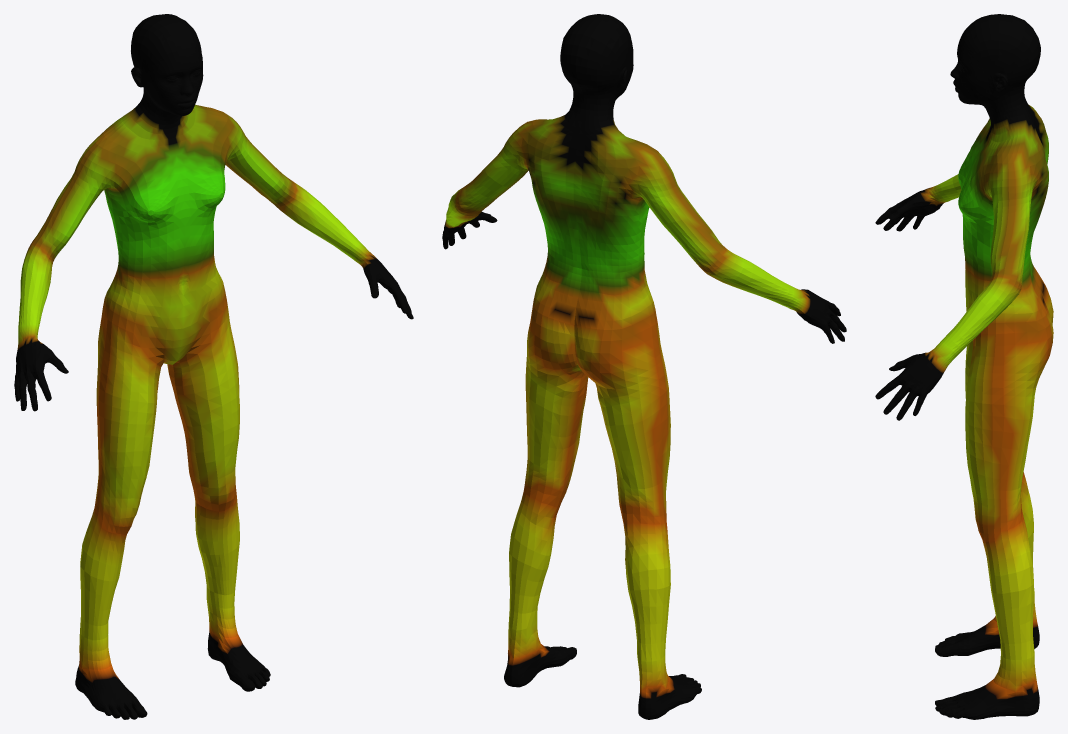
The model's file is female-lean.glb.
3 views of the same model, side by side, from view 1: azimuth 30°, elevation 25°; view 2: azimuth 150°, elevation 25°; view 3: azimuth 270°, elevation 25° (orthographic).
Parts seen in each view (by area): view 1: world; view 2: world; view 3: world.
Boxes of the visible parts, <box> form: world: <box>14,14,413,719</box>; world: <box>442,14,846,719</box>; world: <box>875,14,1053,719</box>.
Bounding box in the file's own units: 1.09 × 1.77 × 0.4301.
